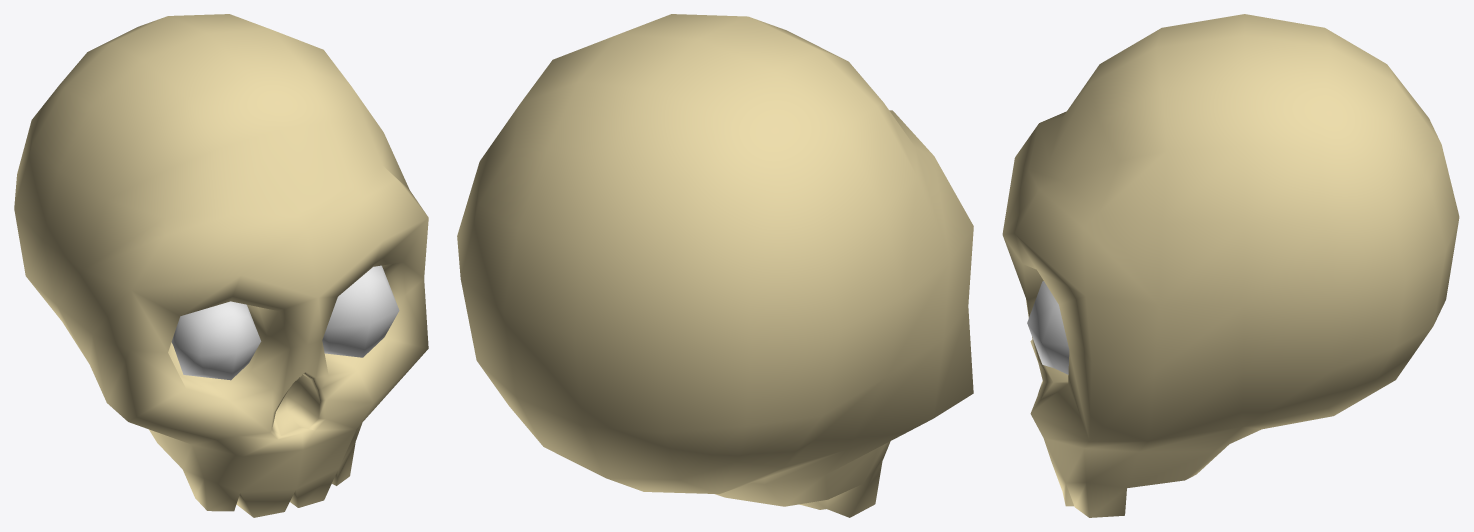
The model's file is skullSOFT_test.fbx.
3 views of the same model, side by side, from view 1: azimuth 30°, elevation 25°; view 2: azimuth 150°, elevation 25°; view 3: azimuth 270°, elevation 25° (orthographic). The views are drawn at different scales.
Parts seen in each view (by area): view 1: pCube1, pCube2, pCube5; view 2: pCube1; view 3: pCube1, pCube5.
Part boxes in pixels (x1,y1,x2,y2): pCube1: [14, 14, 428, 517]; pCube2: [171, 301, 261, 380]; pCube5: [322, 265, 399, 357]; pCube1: [457, 14, 973, 517]; pCube1: [1002, 14, 1459, 517]; pCube5: [1027, 281, 1069, 374].
Bounding box in the file's own units: 1.89 × 2.27 × 2.08.
